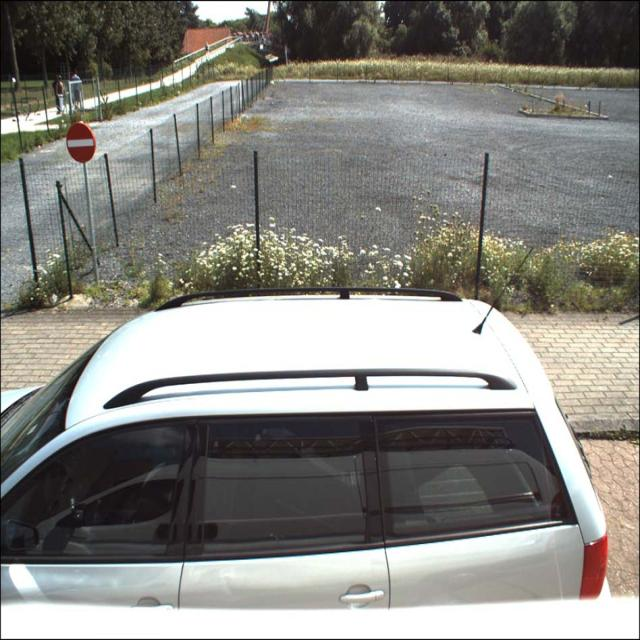girisyok: (66, 124, 95, 163)
